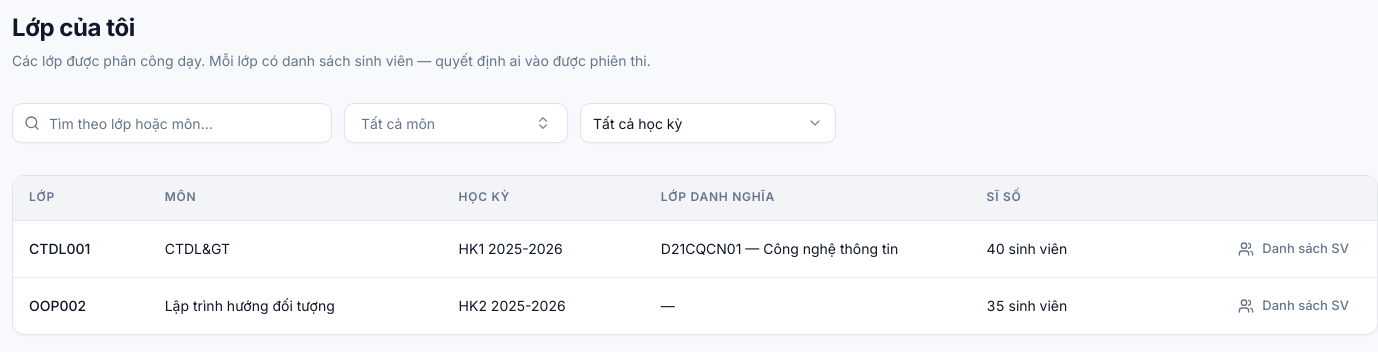
Test: TeacherClassesPage › xóa lọc hiện lại toàn bộ
What coordinates should you click on to do the following:
click the dropdown named "Lọc theo môn"
I would click on:
 (456, 123)
Its box is [344,103,568,143].
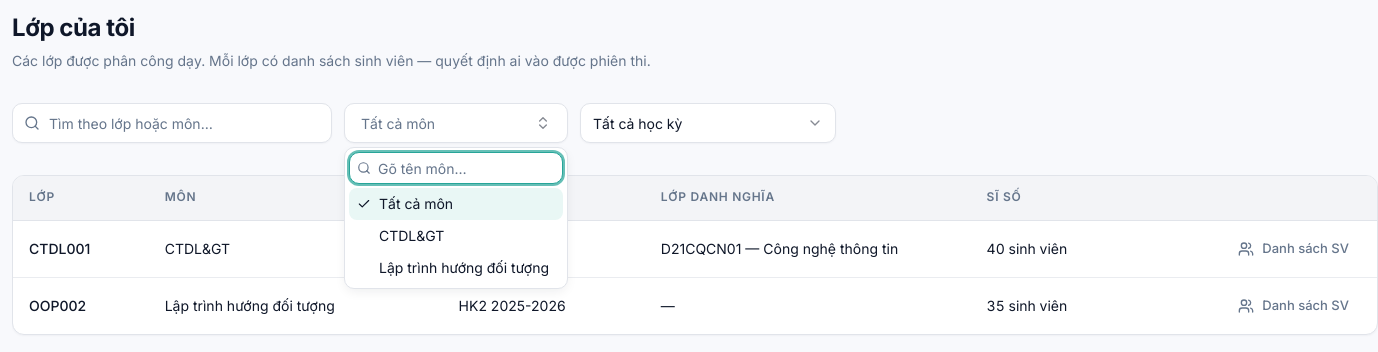
What coordinates should you click on to do the following:
click the option "CTDL&GT"
I would click on:
 (456, 236)
Its box is [349,220,563,252].
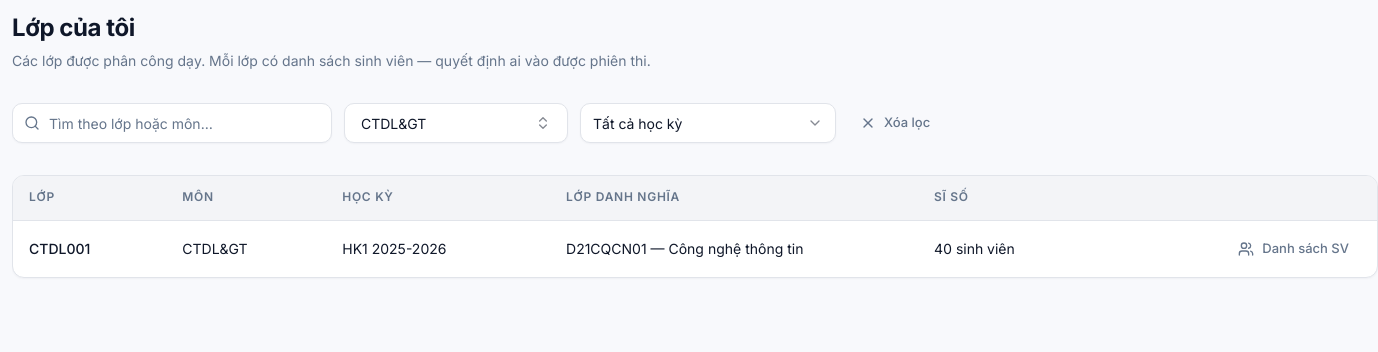
What coordinates should you click on to do the following:
click the button "Xóa lọc"
I would click on:
 (895, 123)
Its box is [848,107,942,139].
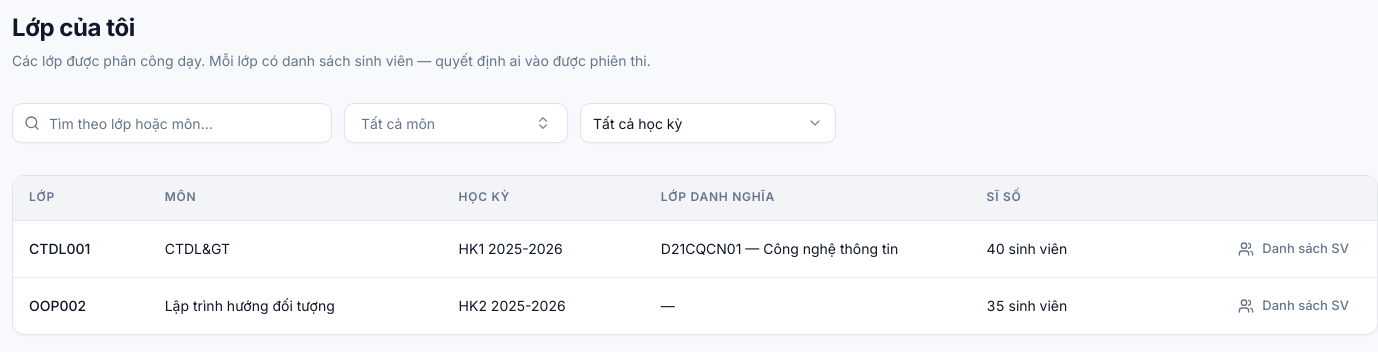
Check: the text "CTDL001" is shown, box [13,220,149,277]
Check: the text "OOP002" is shown, box [13,277,149,334]
